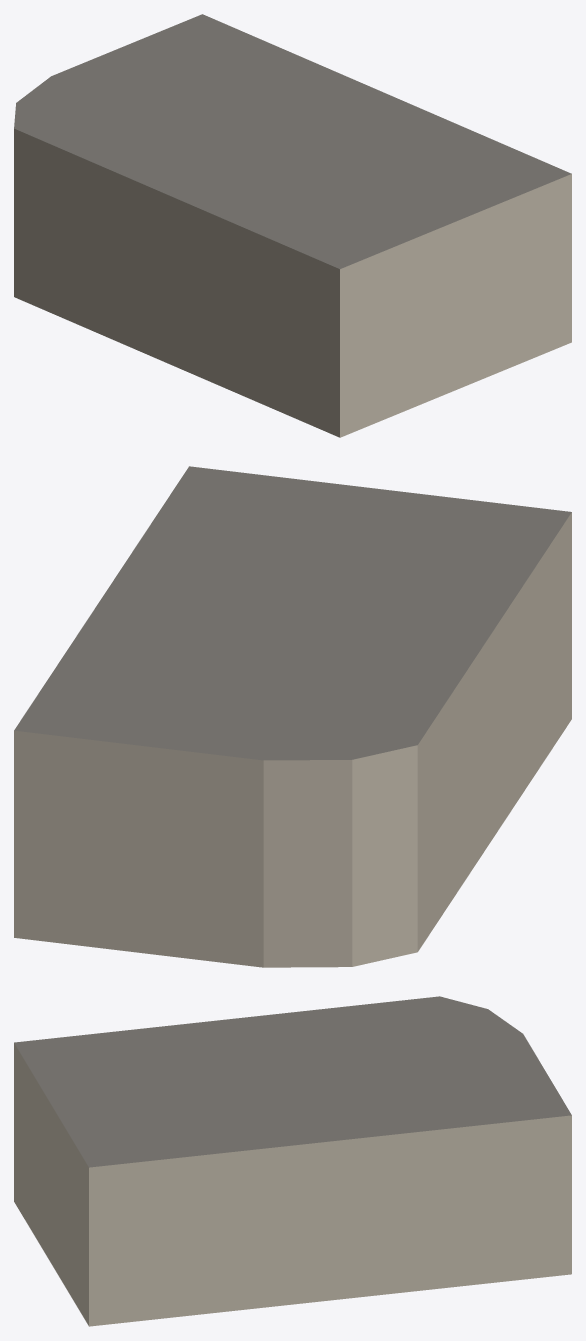
3 views of the same model, one above another, from view 1: azimuth 30°, elevation 25°; view 2: azimuth 150°, elevation 25°; view 3: azimuth 270°, elevation 25° (orthographic). The views are drawn at different scales.
Visible parts, largest first — view 1: HP-w446966512; view 2: HP-w446966512; view 3: HP-w446966512.
Part boxes in pixels (x1=…): HP-w446966512: x1=14, y1=14, x2=571, y2=437; HP-w446966512: x1=14, y1=466, x2=571, y2=967; HP-w446966512: x1=14, y1=996, x2=571, y2=1326.
Size of the model in its own units: 27.71 by 12 by 38.16.
